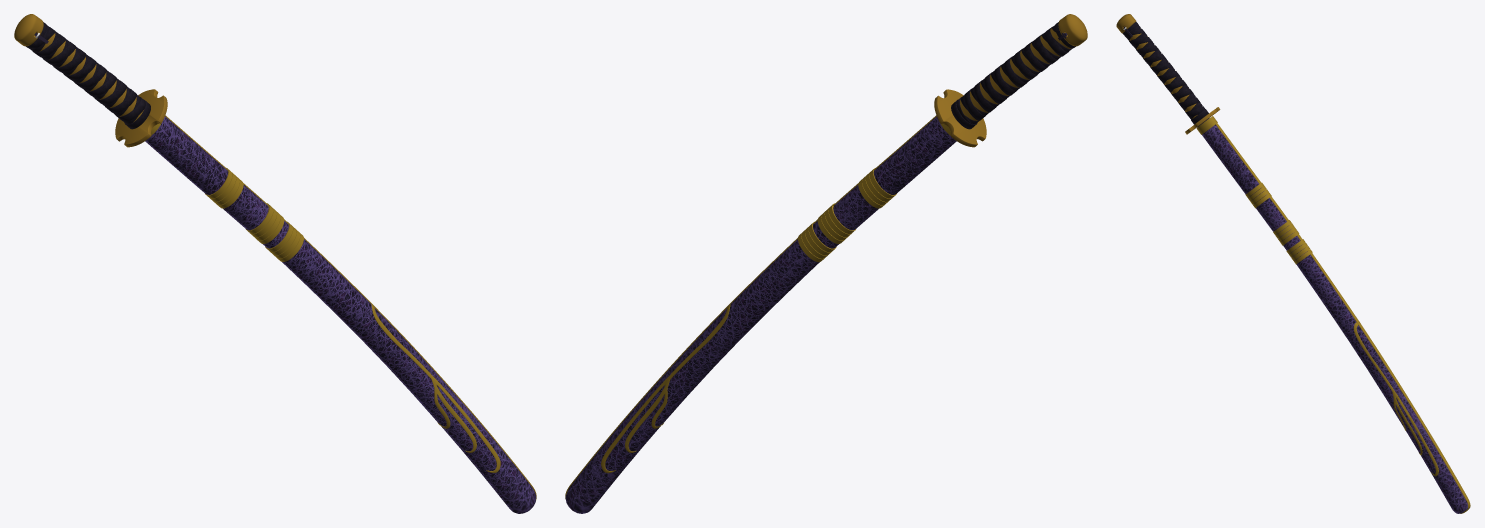
The model's file is katana.glb.
3 renders of one model, left to right at view 1: azimuth 30°, elevation 25°; view 2: azimuth 150°, elevation 25°; view 3: azimuth 330°, elevation 25°, orthographic. The views are drawn at different scales.
Visible parts, largest first — view 1: katana cover.002, katana blade.001; view 2: katana cover.002, katana blade.001; view 3: katana cover.002, katana blade.001.
Part boxes in pixels (bbox=[...]): katana cover.002: bbox=[145, 115, 536, 513]; katana blade.001: bbox=[14, 14, 167, 147]; katana cover.002: bbox=[565, 115, 956, 513]; katana blade.001: bbox=[934, 14, 1087, 147]; katana cover.002: bbox=[1196, 116, 1470, 513]; katana blade.001: bbox=[1116, 14, 1220, 134].
Size of the model in its own units: 0.8123 by 0.9207 by 0.0748.
Materials: 6 (5 with a texture image).
